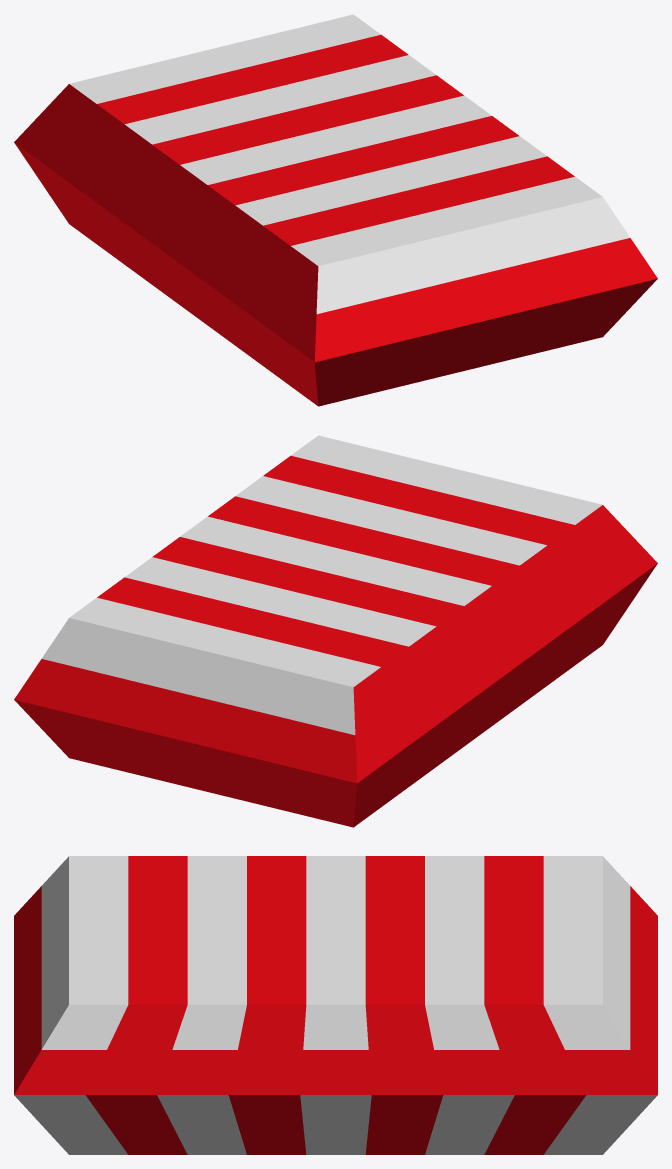
Rendered from Food Container.fbx.
The picture shows the model from 3 angles, top to bottom: view 1: azimuth 30°, elevation 25°; view 2: azimuth 150°, elevation 25°; view 3: azimuth 270°, elevation 25°; orthographic projection. The views are drawn at different scales.
Visible parts, largest first — view 1: KFCBox; view 2: KFCBox; view 3: KFCBox.
Boxes of the visible parts, bbox=[...] form: KFCBox: bbox=[14, 14, 657, 406]; KFCBox: bbox=[14, 435, 657, 827]; KFCBox: bbox=[14, 856, 657, 1154].
Bounding box in the file's own units: 20.05 × 7.83 × 30.44.
